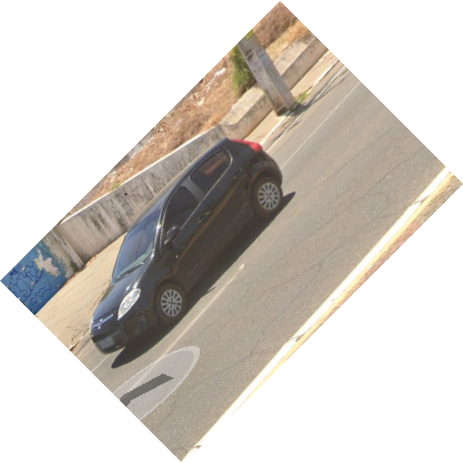car: (88, 135, 306, 356)
